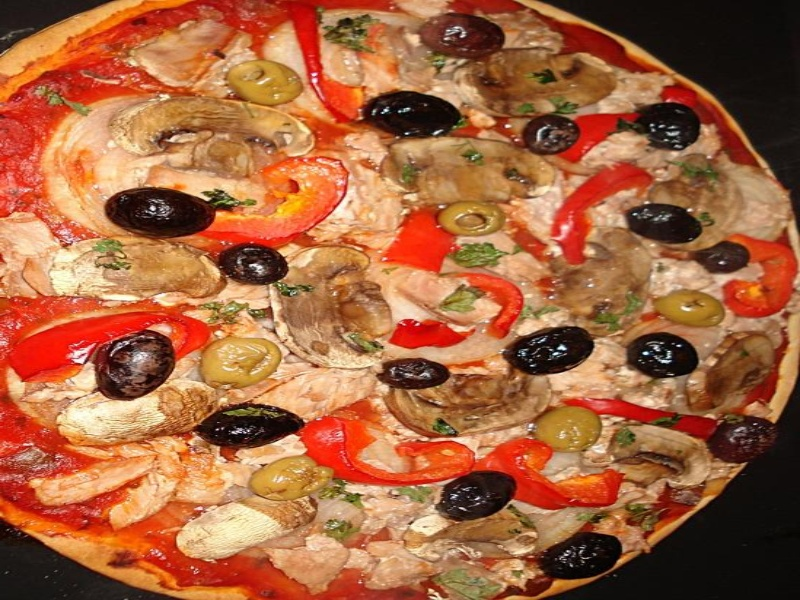champignon: (107, 94, 323, 181), (269, 244, 396, 376), (375, 130, 562, 208), (383, 359, 557, 442), (455, 44, 624, 118), (605, 413, 712, 495)
olive: (180, 396, 312, 460), (97, 185, 224, 243), (90, 329, 186, 405), (359, 87, 471, 149), (192, 332, 292, 396), (498, 325, 600, 380), (430, 468, 525, 527), (701, 408, 785, 472), (242, 453, 342, 505), (410, 13, 507, 66), (535, 530, 628, 584), (622, 327, 705, 387), (631, 97, 707, 158), (215, 240, 295, 297), (526, 403, 611, 456), (623, 203, 704, 253), (653, 285, 729, 336), (371, 354, 456, 397), (432, 201, 514, 241), (519, 109, 582, 159), (696, 239, 753, 280)
